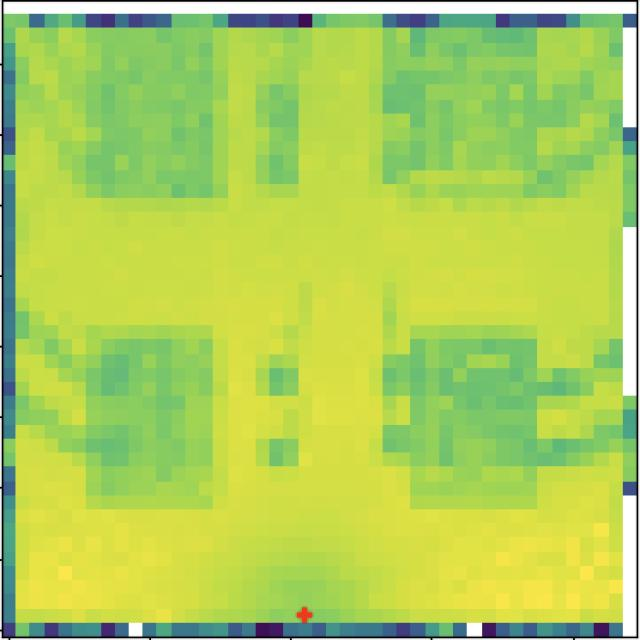Concrete: (409, 337, 540, 499)
Glass: (84, 325, 214, 507)
Metal: (386, 33, 538, 172)
Wood: (82, 30, 216, 201)
